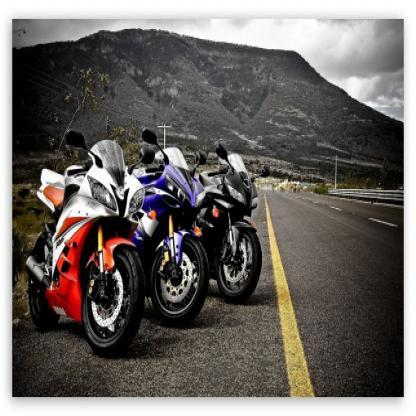Motorcycle: (32, 147, 143, 359), (140, 132, 215, 329), (200, 126, 267, 309)
